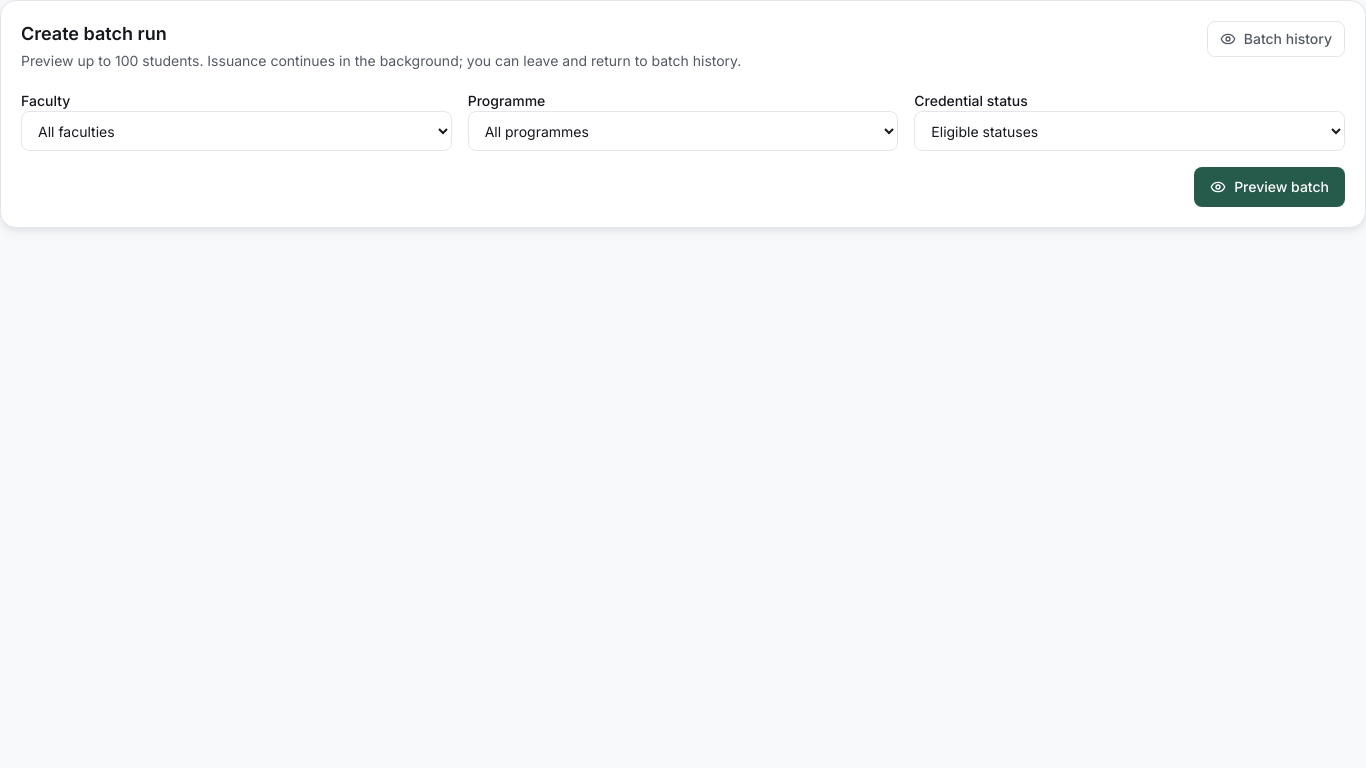
Scenario: BatchIssuancePanel › filters batch issuance by faculty and programme dropdowns
Step 1. Select "Commerce" in the dropdown labelled "Faculty" → (236, 131), box [21,111,452,151]
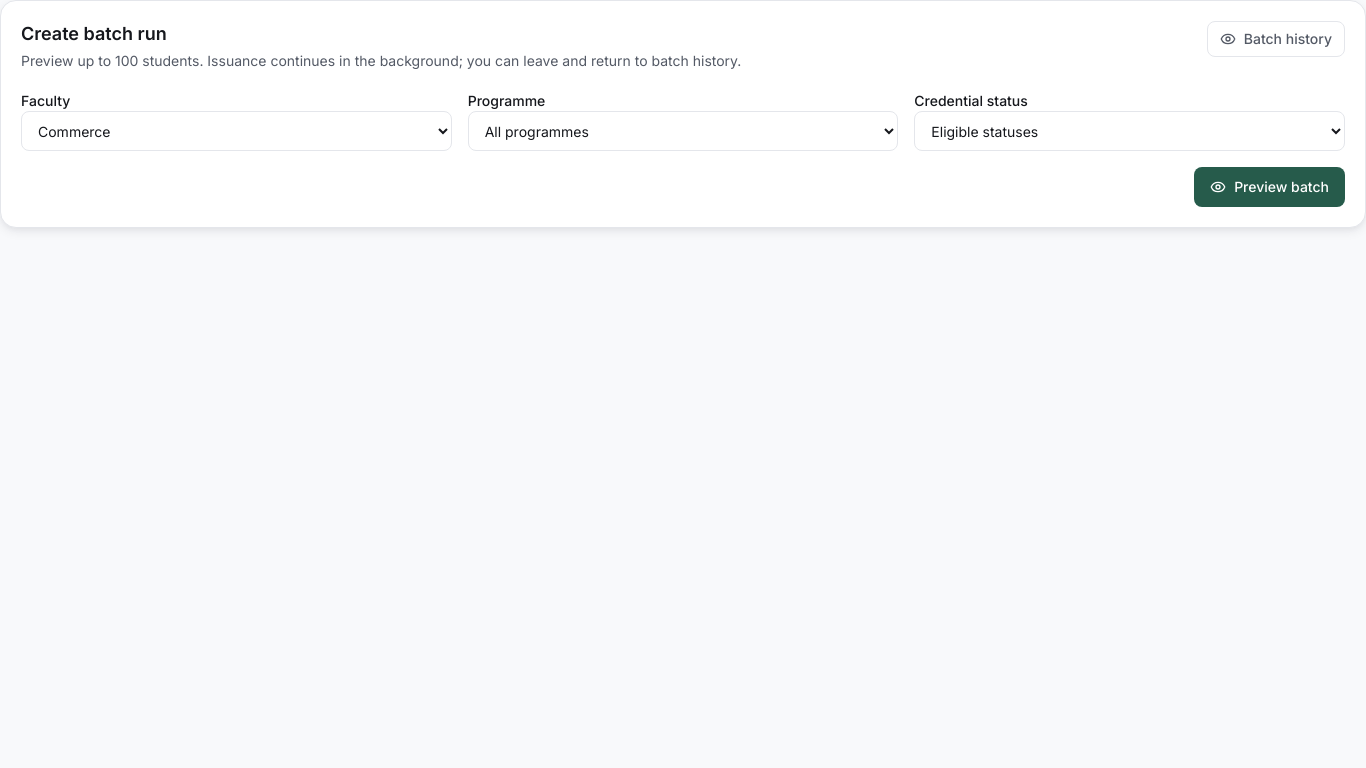
Step 2. Select "Bachelor of Accounting" in the dropdown labelled "Programme" → (683, 131), box [468,111,898,151]
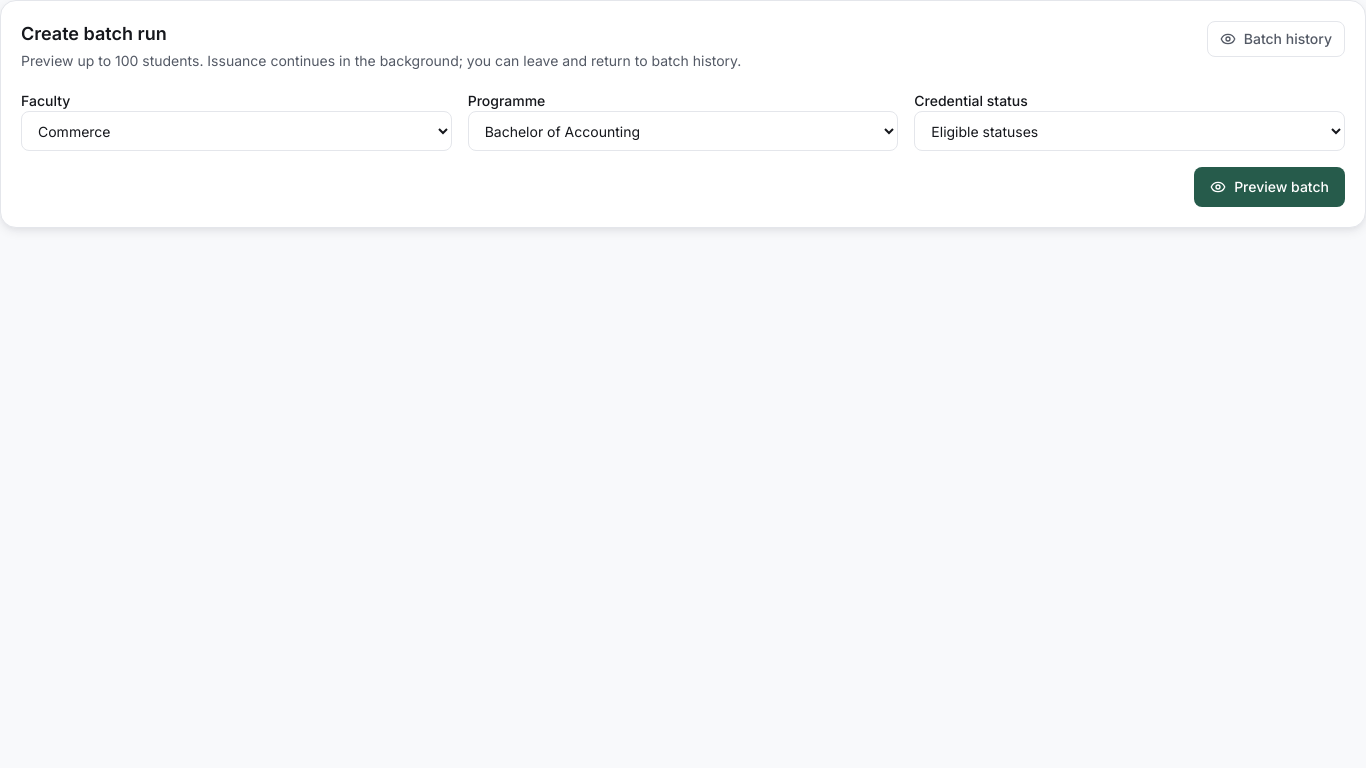
Step 3. Click the button "Preview batch" → (1270, 187), box [1194,167,1345,207]
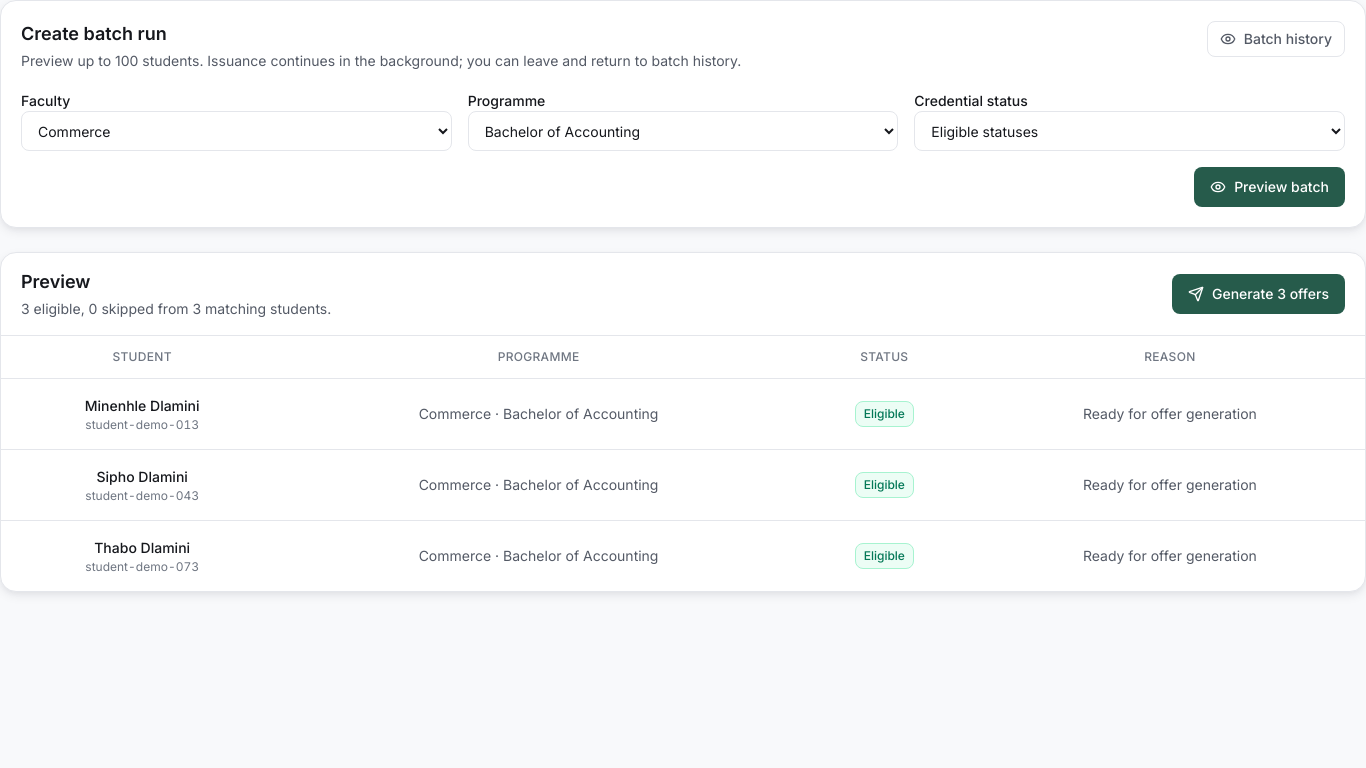
Check: the text "3 eligible, 0 skipped from 3 matching students." is shown, box [21,299,331,319]
Check: the text "Commerce · Bachelor of Accounting" is shown 3 times, box [283,378,794,450]; [283,450,794,520]; [283,520,794,591]
